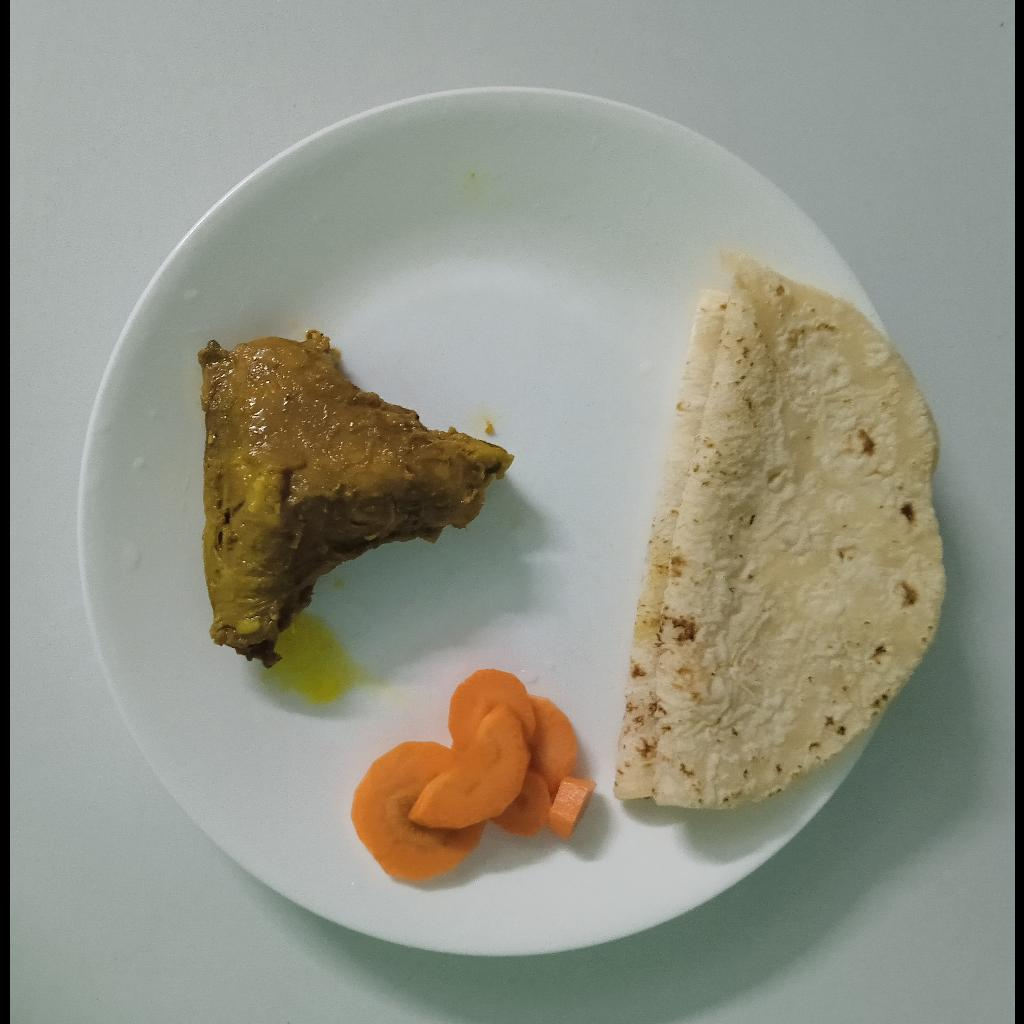carrot: (349, 668, 597, 880)
chicken: (198, 336, 514, 666)
ruti: (612, 249, 948, 806)
